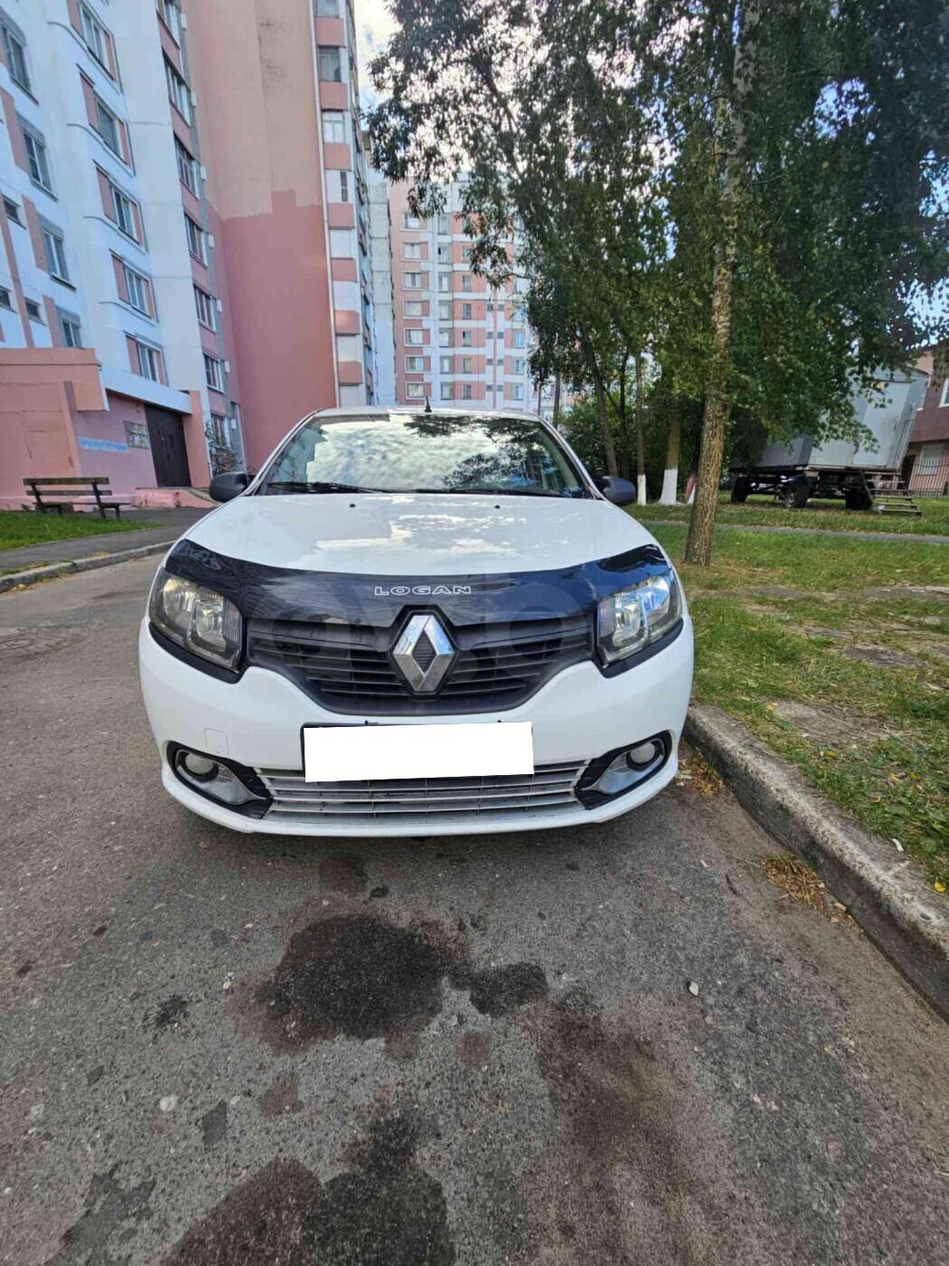Logan_2013-2018: (127, 394, 703, 848)
